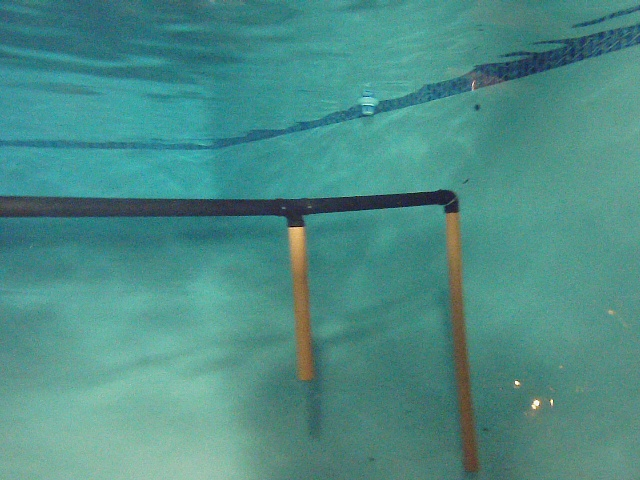Gate: (444, 208, 484, 480), (284, 219, 322, 382)
